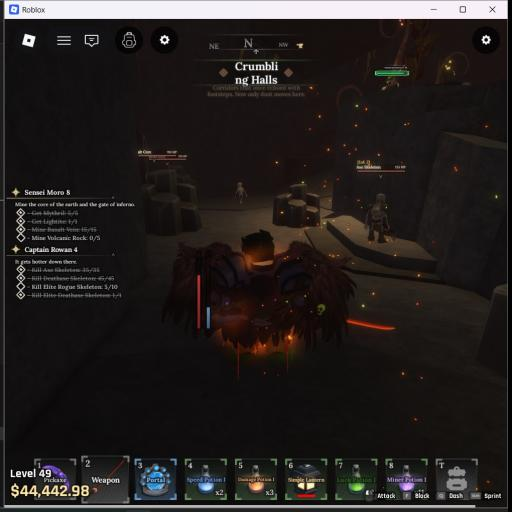player: (199, 230, 355, 365), (163, 244, 196, 329)
rock: (142, 167, 202, 235), (476, 284, 509, 376), (273, 184, 319, 227)
